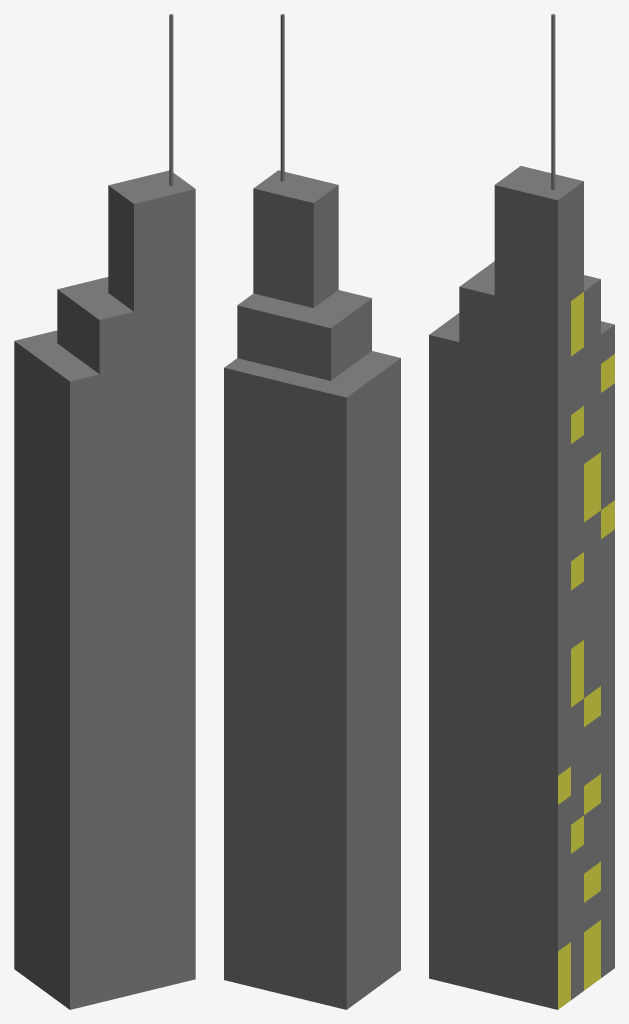
The model's file is Skyscraper1.fbx.
3 views of the same model, side by side, from view 1: azimuth 30°, elevation 25°; view 2: azimuth 150°, elevation 25°; view 3: azimuth 330°, elevation 25° (orthographic). The views are drawn at different scales.
Visible parts, largest first — view 1: Box018; view 2: Box018; view 3: Box018.
Part boxes in pixels (x1,y1,x2,y2): Box018: (14, 14, 195, 1009); Box018: (224, 14, 400, 1009); Box018: (429, 14, 614, 1009).
Size of the model in its own units: 822 by 5998 by 630.
